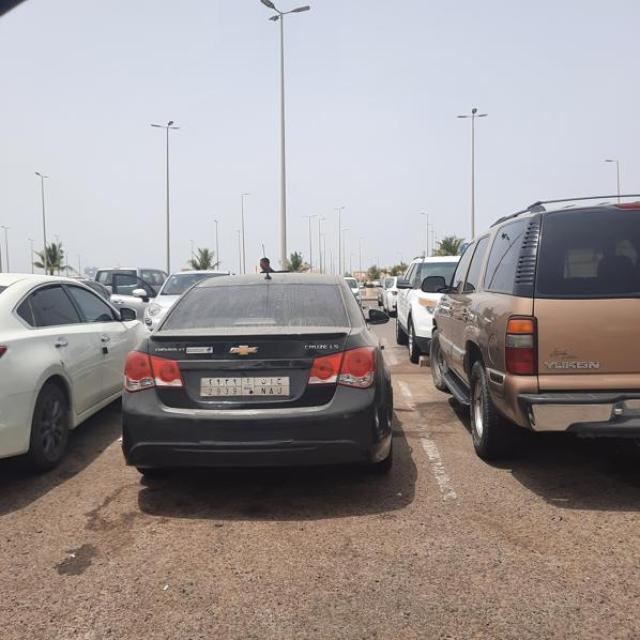license_plate: (200, 377, 291, 396)
